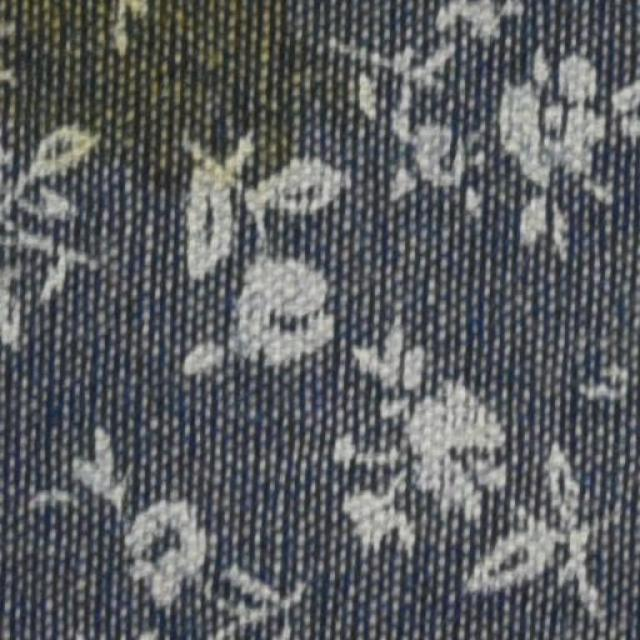Stain: (0, 1, 338, 195)
